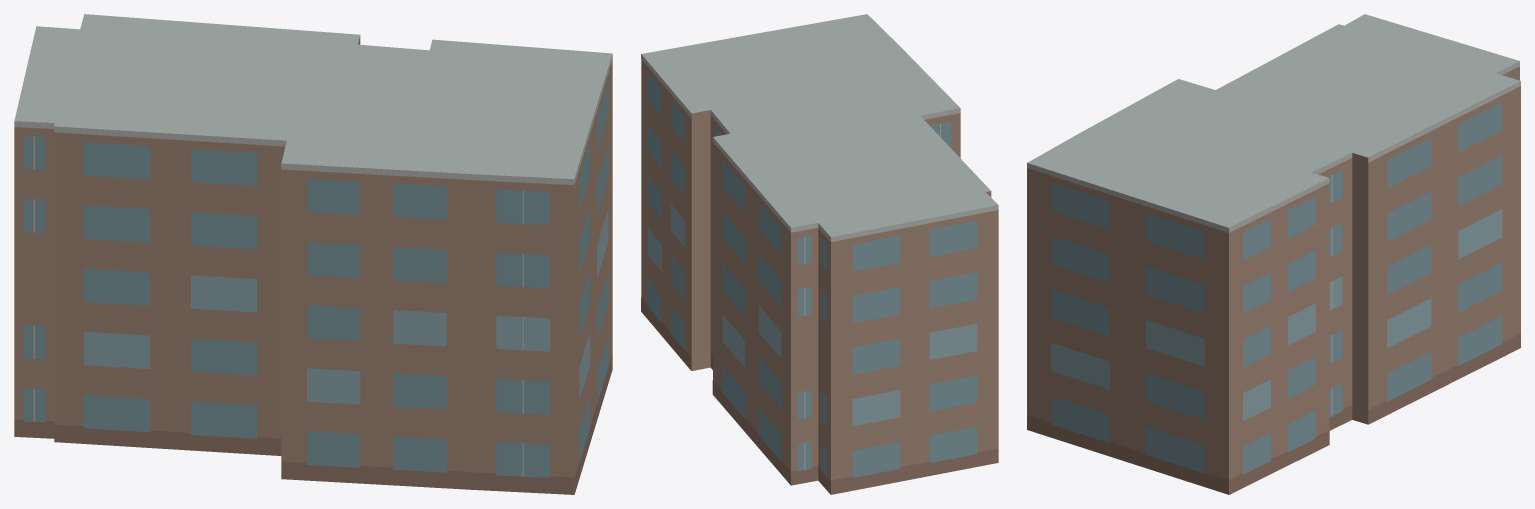
The model's file is survey-upis-32659240.glb.
The picture shows the model from 3 angles, left to right: view 1: azimuth 30°, elevation 25°; view 2: azimuth 150°, elevation 25°; view 3: azimuth 270°, elevation 25°; orthographic projection. The views are drawn at different scales.
Parts seen in each view (by area): view 1: survey-upis-32659240.tmp; view 2: survey-upis-32659240.tmp; view 3: survey-upis-32659240.tmp.
Part boxes in pixels (x1,y1,x2,y2): survey-upis-32659240.tmp: [14, 14, 612, 494]; survey-upis-32659240.tmp: [641, 14, 998, 494]; survey-upis-32659240.tmp: [1027, 14, 1520, 494].
Size of the model in its own units: 22.08 by 12.85 by 21.54.
